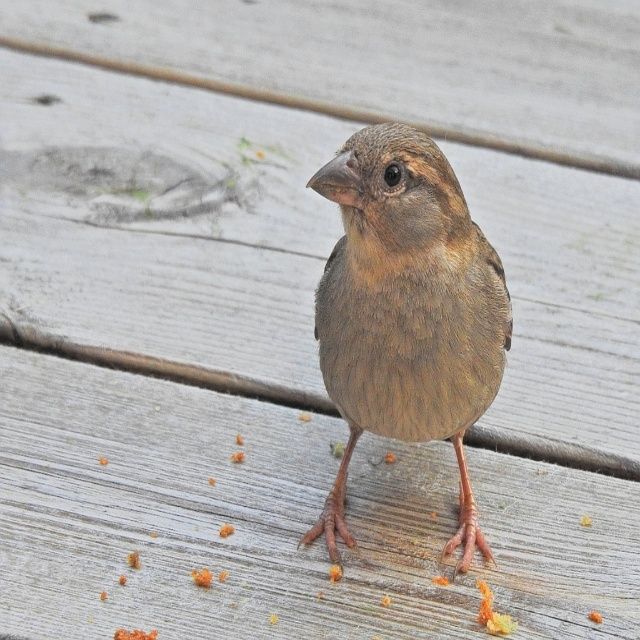Sparrow: (300, 126, 515, 583)
